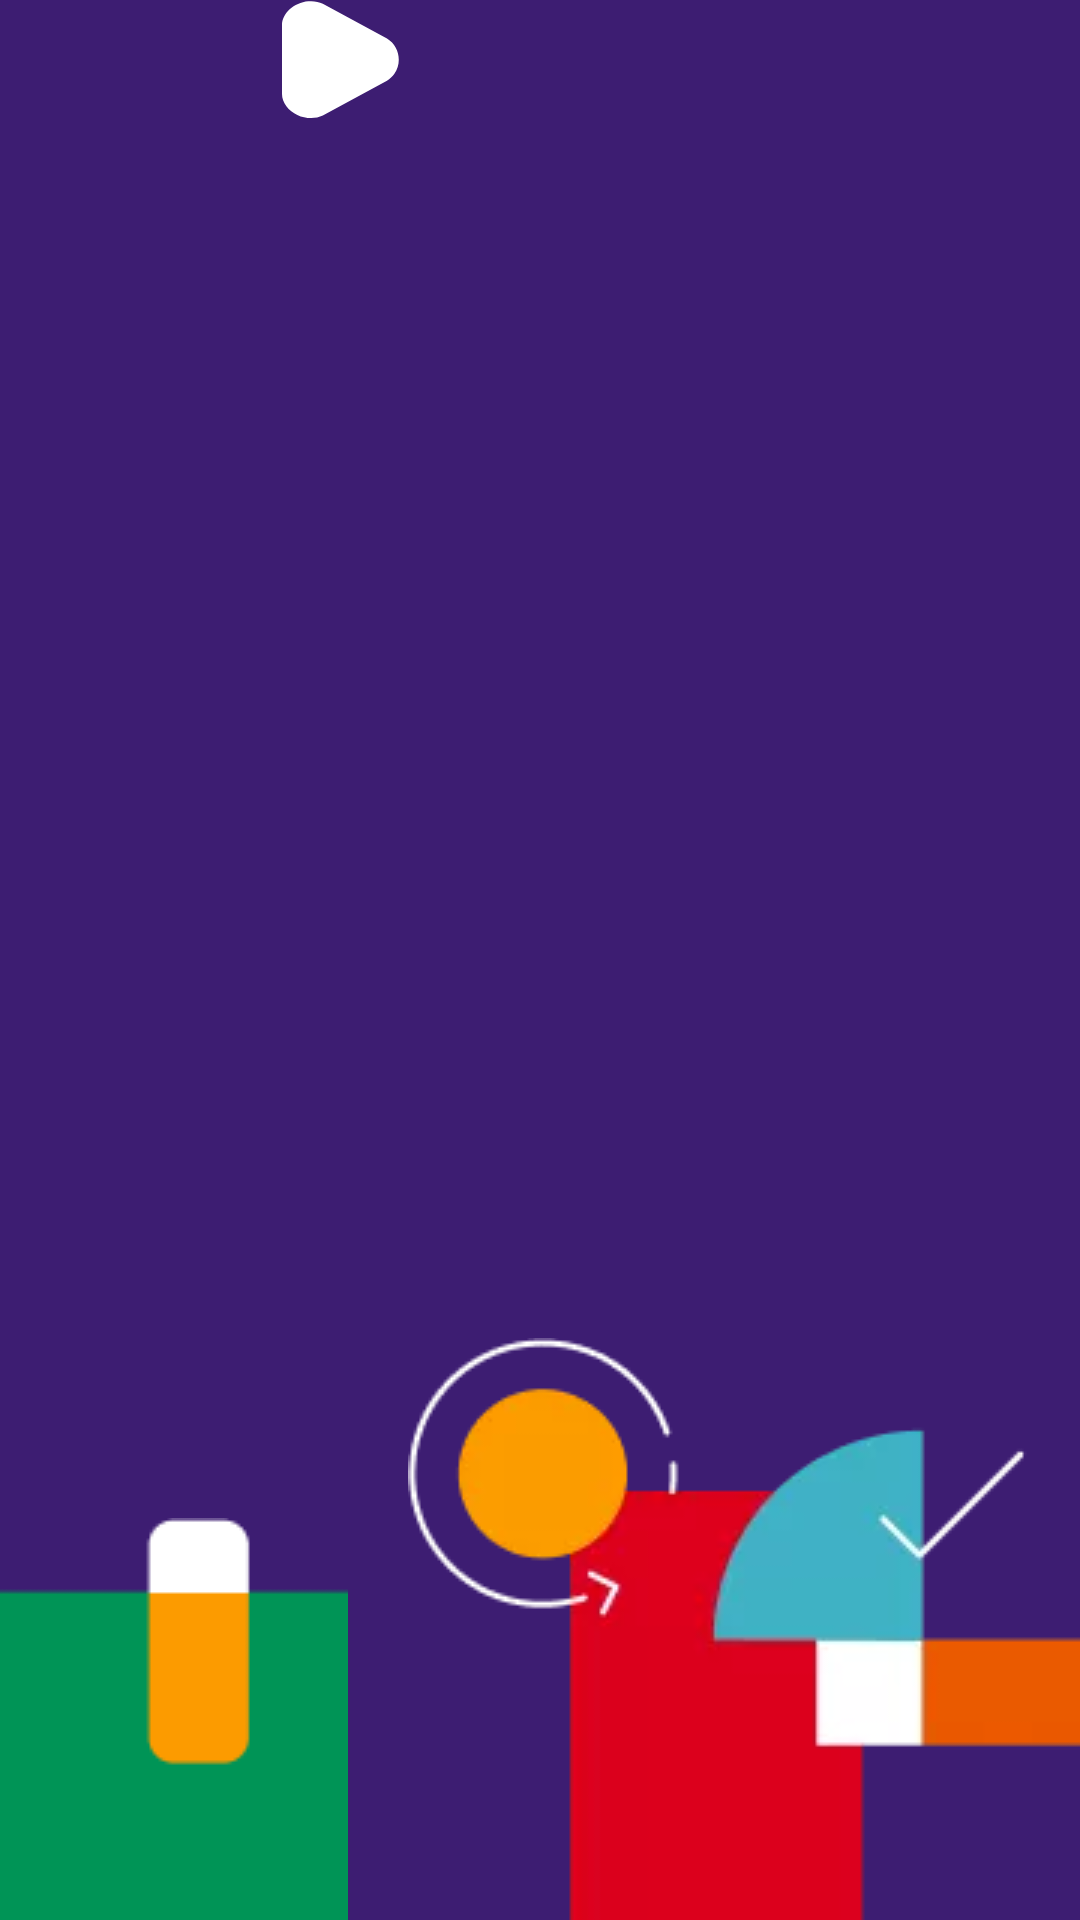

Locate icon controls on the screen. Image size 1080 x 1920, boxes as (x1, y1, x2, y2).
triangle: (282, 1, 399, 118)
